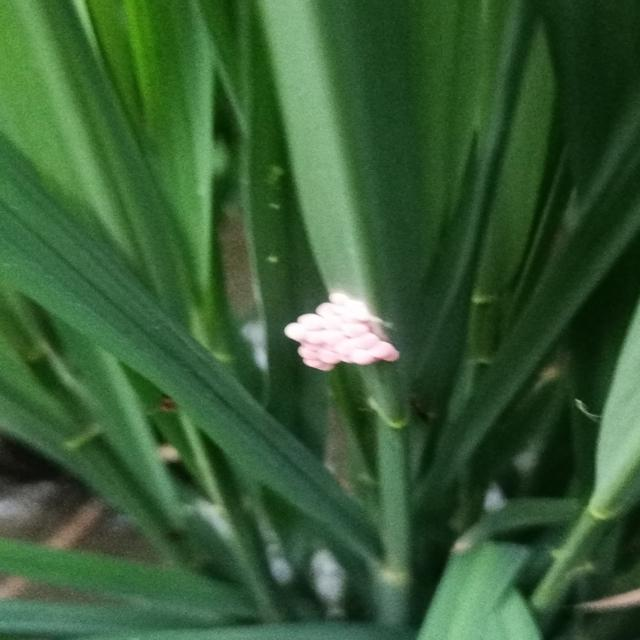Leaf blast: (280, 284, 414, 383)
